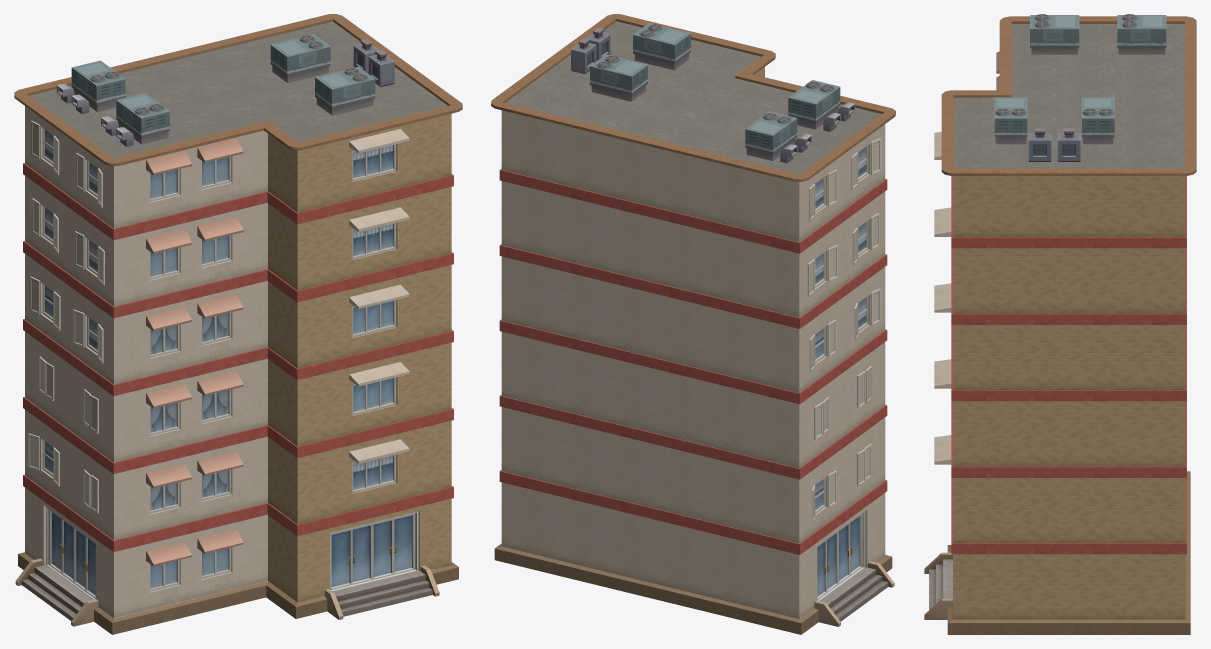
Rendered from Building_10_1.glb.
3 views of the same model, side by side, from view 1: azimuth 30°, elevation 25°; view 2: azimuth 150°, elevation 25°; view 3: azimuth 270°, elevation 25° (orthographic). The views are drawn at different scales.
Visible parts, largest first — view 1: Building_10_Walls_1; view 2: Building_10_Walls_1; view 3: Building_10_Walls_1.
Part boxes in pixels (left/top/right/bottom): Building_10_Walls_1: left=14, top=14, right=462, bottom=634; Building_10_Walls_1: left=491, top=14, right=895, bottom=634; Building_10_Walls_1: left=924, top=14, right=1196, bottom=634.
Size of the model in its own units: 13.36 by 18.6 by 9.36.
Materials: 13 (13 with a texture image).
